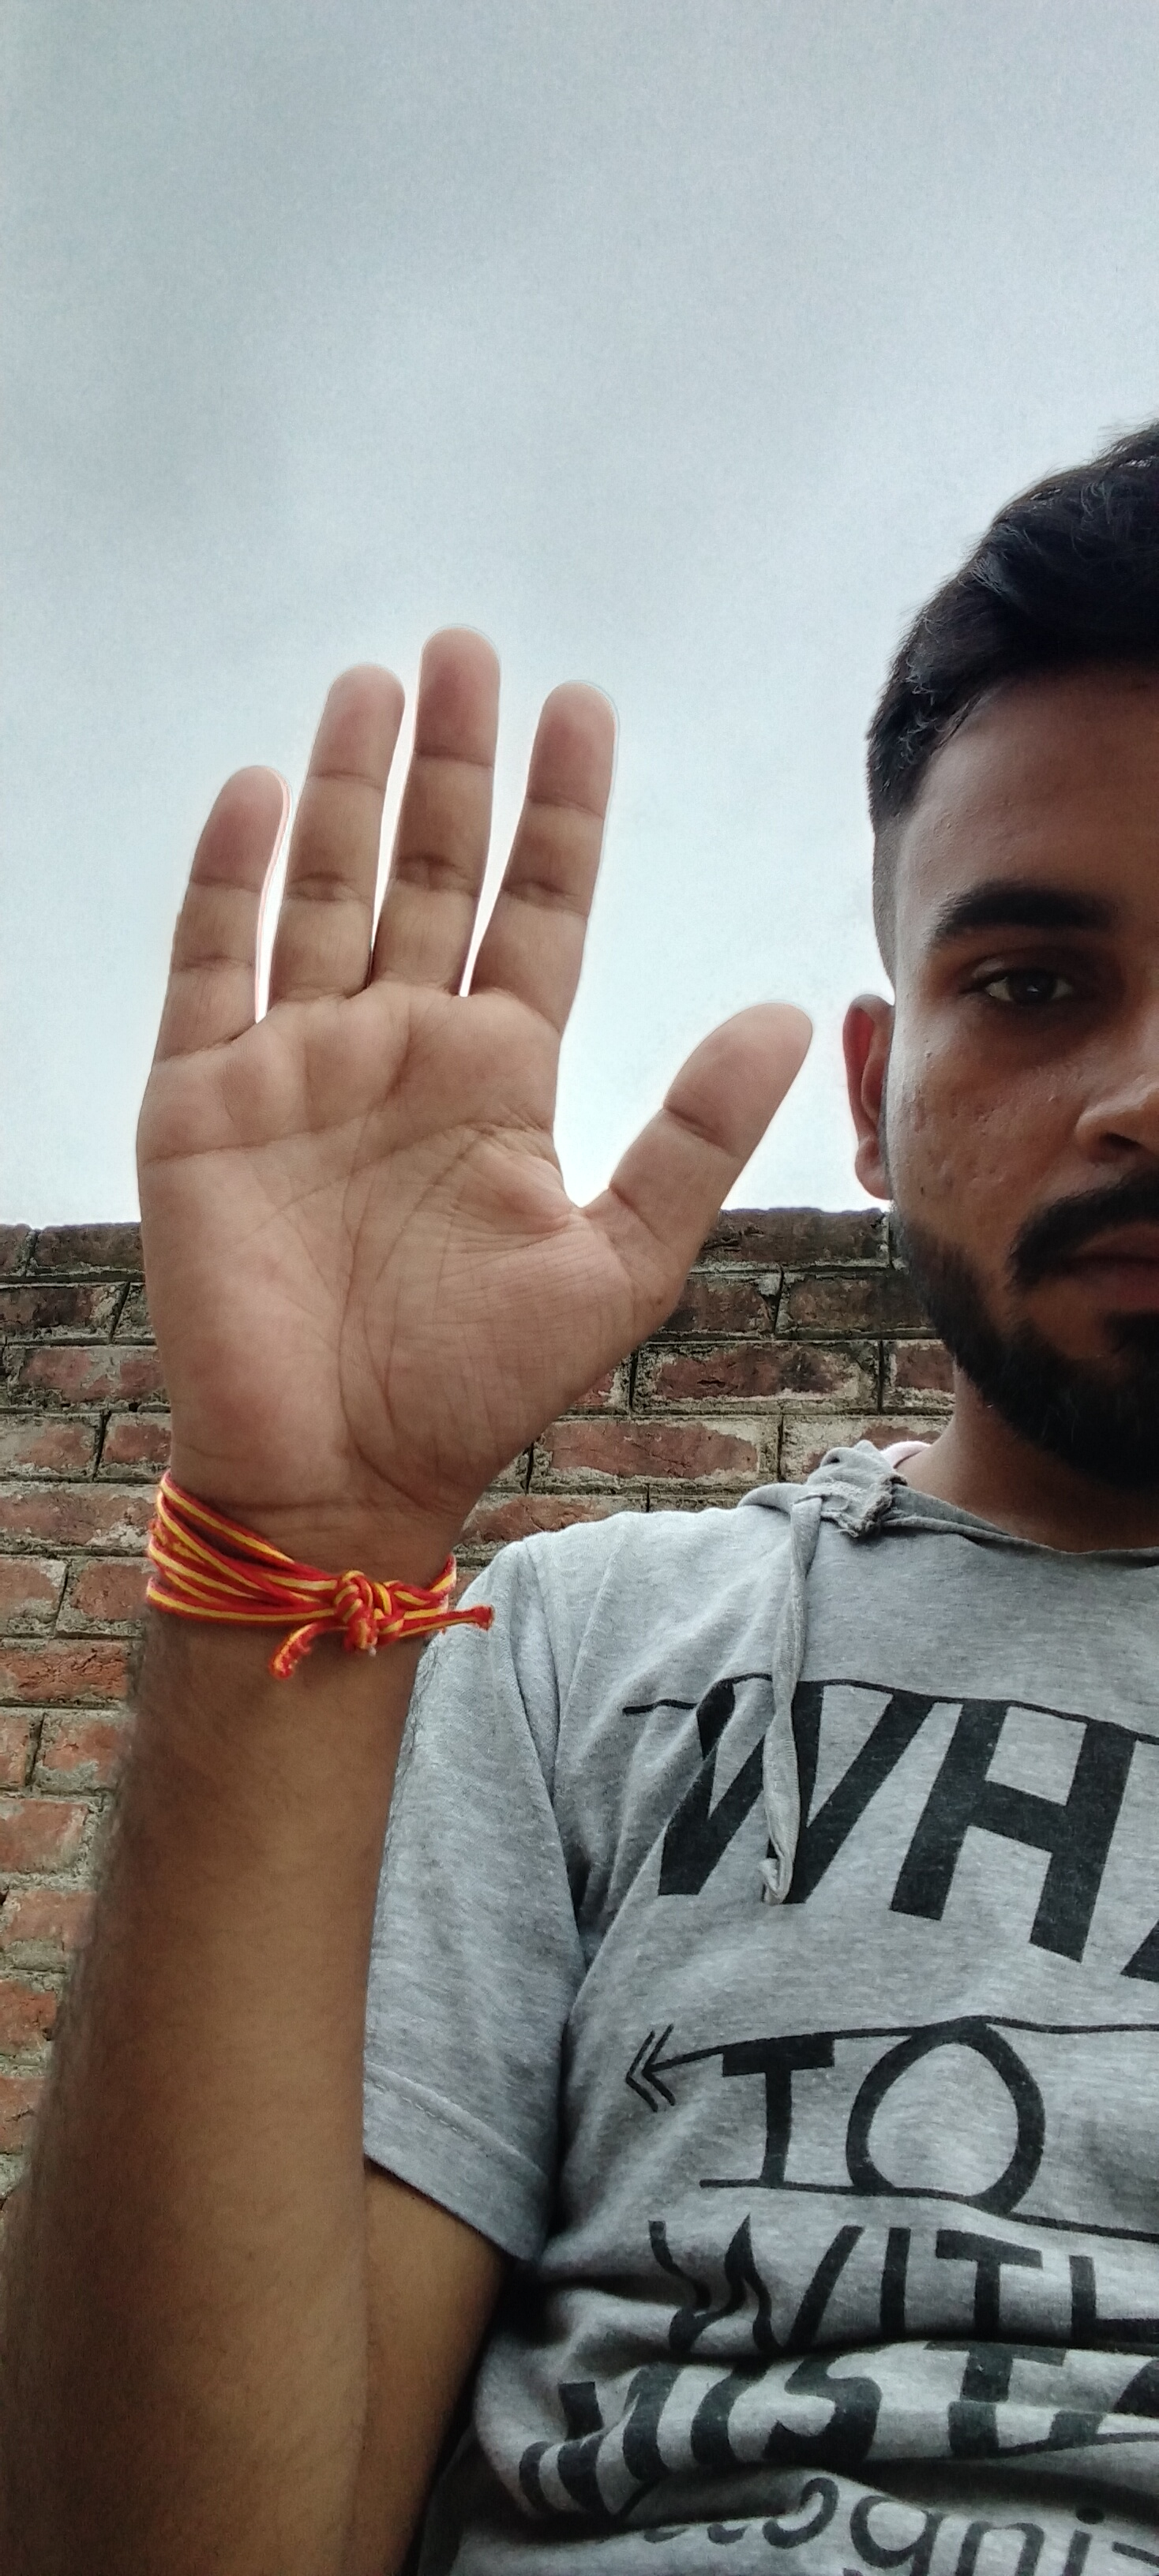Hello: (125, 618, 829, 1528)
